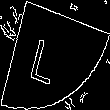L_N: (37, 25, 73, 85)
